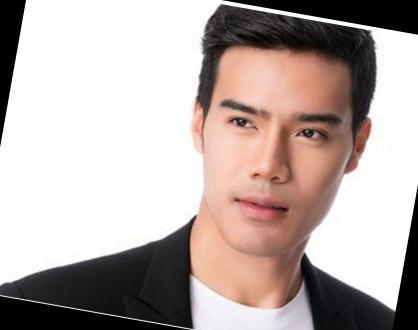Sober: (210, 47, 343, 238)
